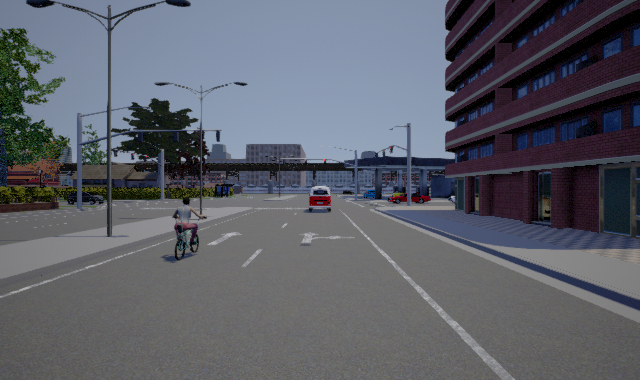bike: (172, 199, 207, 261)
traffic_light: (389, 146, 393, 154), (131, 153, 135, 160), (382, 149, 385, 156), (144, 156, 147, 162), (375, 153, 378, 159), (324, 159, 326, 164), (305, 159, 307, 164)
vehicle: (308, 186, 332, 212), (388, 192, 432, 203)
